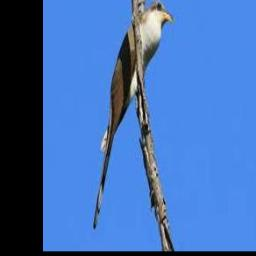Cuckoo: (93, 0, 174, 229)
